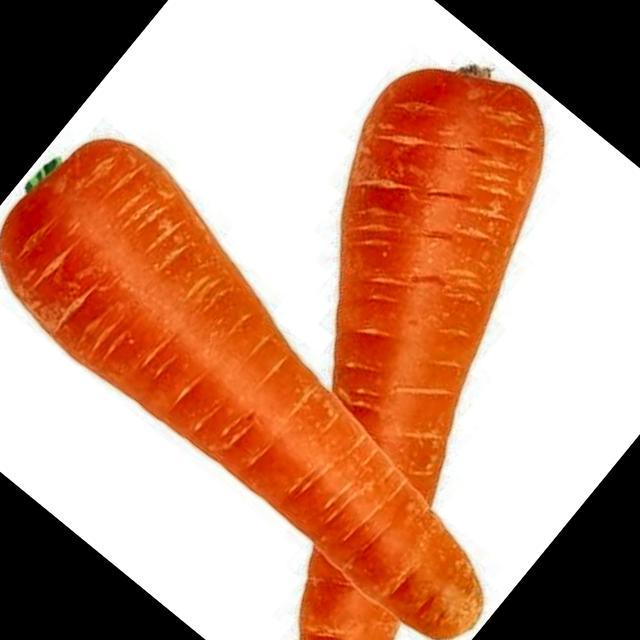carrot: (0, 140, 482, 638), (298, 70, 544, 640)
